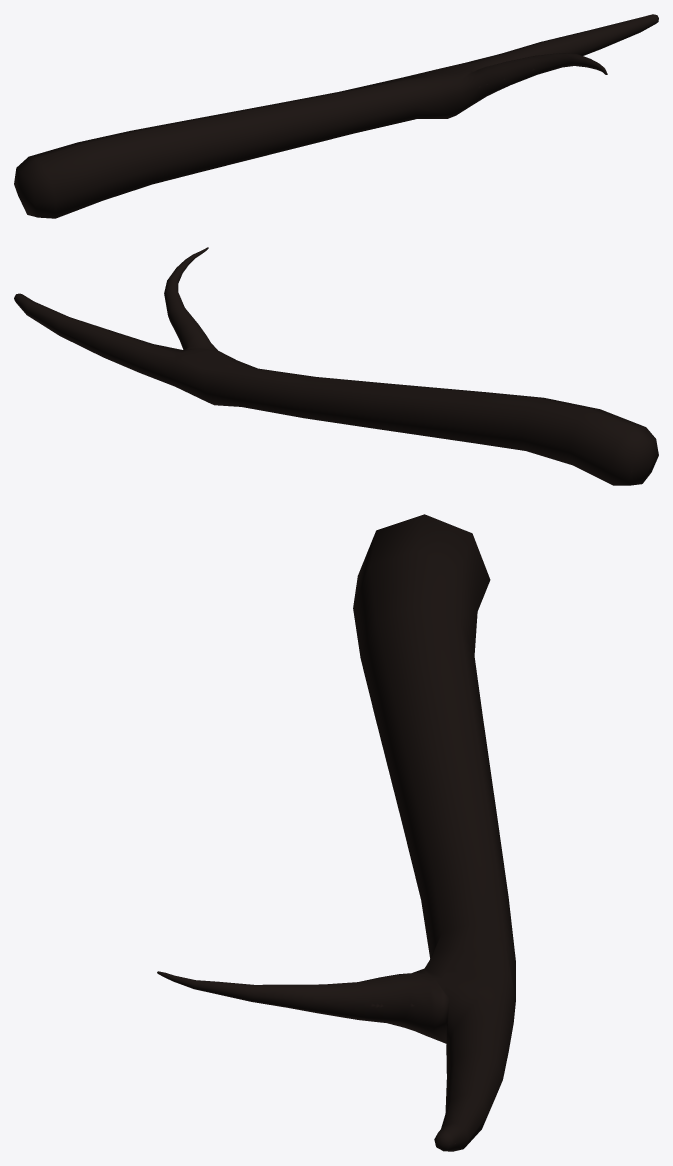
Rendered from strayBranch.fbx.
3 views of the same model, one above another, from view 1: azimuth 30°, elevation 25°; view 2: azimuth 150°, elevation 25°; view 3: azimuth 270°, elevation 25° (orthographic). The views are drawn at different scales.
Visible parts, largest first — view 1: strayBranch1; view 2: strayBranch1; view 3: strayBranch1.
Boxes of the visible parts, left/top/right/bottom form: strayBranch1: left=14, top=14, right=658, bottom=218; strayBranch1: left=14, top=247, right=658, bottom=485; strayBranch1: left=157, top=514, right=515, bottom=1151.
Size of the model in its own units: 967 by 115 by 238.
